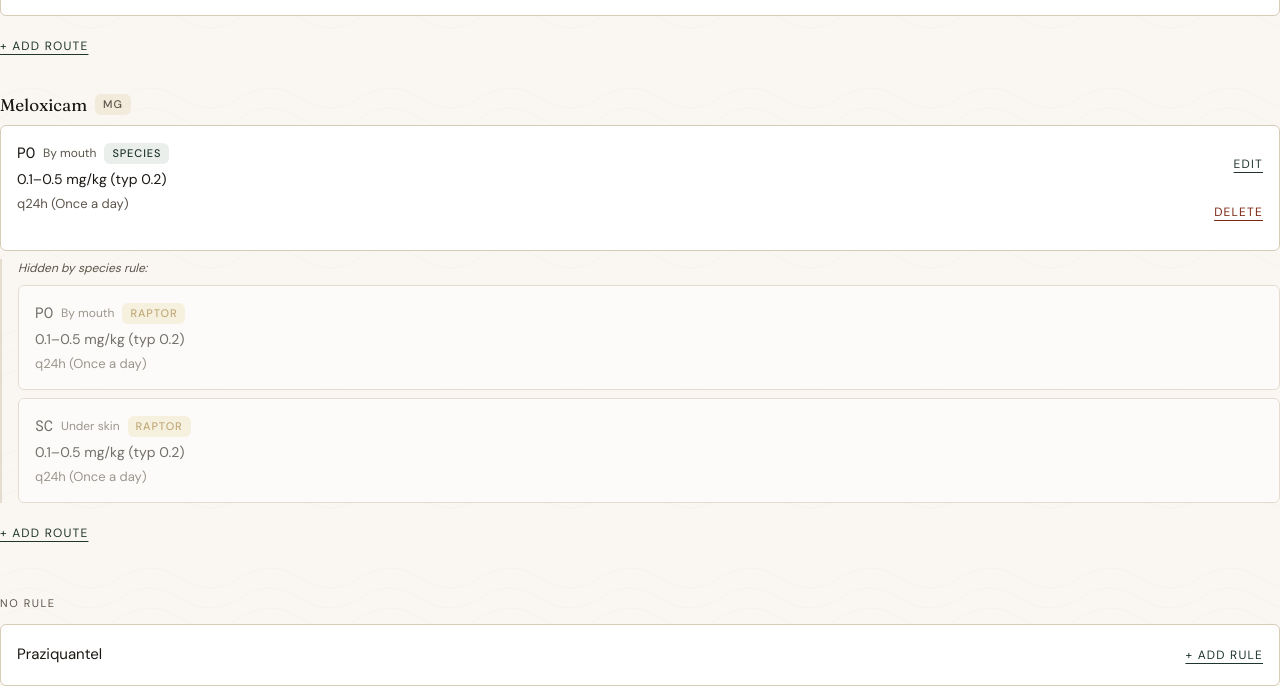
Scenario: SpeciesPage › lists meds with no rule, with an add button defaulting to this species
(page scrolled)
Click the button with aria-label "add rule for praziquantel".
click(1224, 654)  # box [1185,632,1263,676]
(page scrolled)
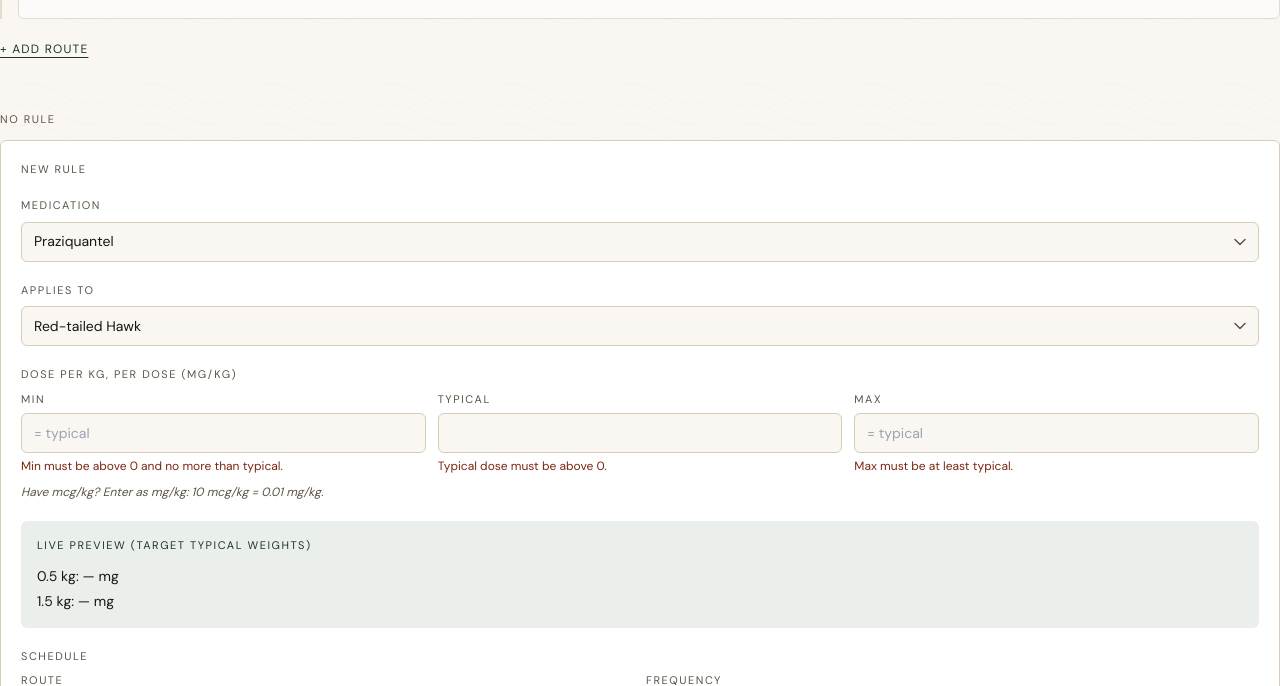
Now the text "New rule" is shown, box [21,162,86,176]
Now the dropdown labelled "Applies to" shows "Red-tailed Hawk", box [21,306,1259,346]
